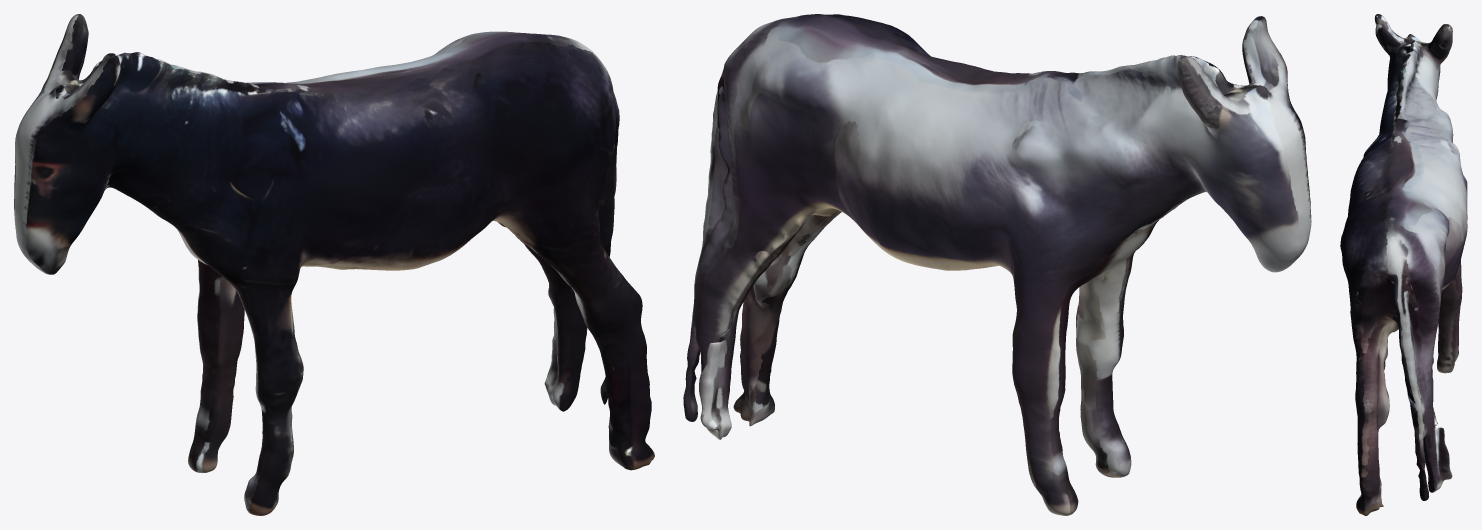
File: adulto.glb
The picture shows the model from 3 angles, left to right: view 1: azimuth 30°, elevation 25°; view 2: azimuth 150°, elevation 25°; view 3: azimuth 270°, elevation 25°; orthographic projection. The views are drawn at different scales.
Parts seen in each view (by area): view 1: mesh; view 2: mesh; view 3: mesh.
Boxes of the visible parts, <box> form: mesh: <box>14,14,654,515</box>; mesh: <box>683,14,1311,515</box>; mesh: <box>1340,14,1467,515</box>.
Size of the model in its own units: 1.54 by 1.29 by 0.4391.
Materials: 1 (1 with a texture image).
